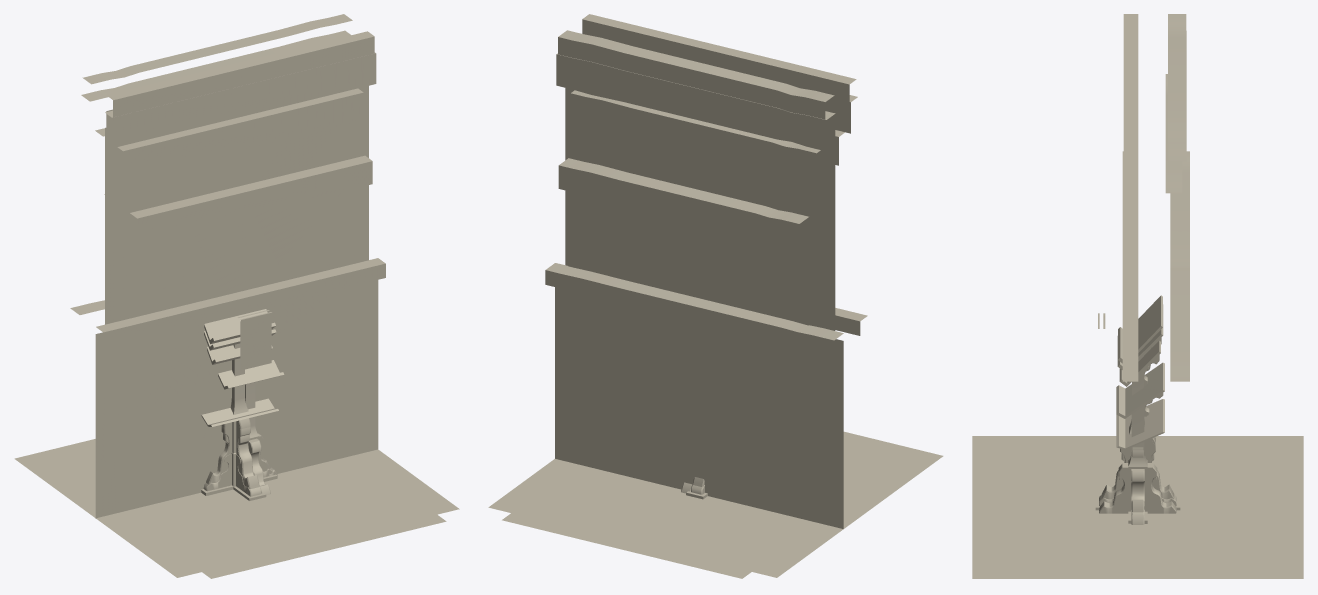
Rendered from palace.glb.
3 renders of one model, left to right at view 1: azimuth 30°, elevation 25°; view 2: azimuth 150°, elevation 25°; view 3: azimuth 270°, elevation 25°, orthographic. The views are drawn at different scales.
Parts seen in each view (by area): view 1: architecture.palace.beam:condition-damaged, architecture.palace.beam:condition-overgrown, architecture.palace.beam:visual-base, architecture.palace.floor-section:condition-overgrown, architecture.palace.beam:condition-burned, architecture.palace.beam:condition-weathered, architecture.palace.floor-section:condition-damaged, environment.palace.anchor:condition-overgrown, environment.palace.anchor:condition-damaged, environment.palace.anchor:visual-base, architecture.palace.doorway:state-lock, environment.palace.anchor:condition-weathered (+1 smaller); view 2: architecture.palace.beam:condition-damaged, architecture.palace.floor-section:condition-overgrown, architecture.palace.beam:condition-weathered, architecture.palace.beam:condition-overgrown, architecture.palace.beam:visual-base, architecture.palace.beam:condition-burned, architecture.palace.floor-section:condition-damaged; view 3: architecture.palace.floor-section:condition-overgrown, architecture.palace.beam:visual-base, environment.palace.anchor:condition-damaged, architecture.palace.beam:condition-overgrown, architecture.palace.beam:condition-damaged, environment.palace.anchor:condition-overgrown, environment.palace.anchor:visual-base, environment.palace.anchor:condition-weathered, architecture.palace.beam:condition-burned, architecture.palace.floor-section:condition-damaged, architecture.palace.beam:condition-weathered, environment.palace.anchor:condition-burned.
Boxes of the visible parts, x1,y1,x2,y2 form: architecture.palace.beam:condition-damaged: (104, 155, 372, 509); architecture.palace.beam:condition-overgrown: (70, 258, 385, 518); architecture.palace.beam:visual-base: (82, 14, 374, 515); architecture.palace.floor-section:condition-overgrown: (14, 439, 459, 577); architecture.palace.beam:condition-burned: (95, 88, 363, 512); architecture.palace.beam:condition-weathered: (81, 30, 376, 515); architecture.palace.floor-section:condition-damaged: (202, 514, 446, 578); environment.palace.anchor:condition-overgrown: (201, 398, 278, 500); environment.palace.anchor:condition-damaged: (218, 360, 284, 495); environment.palace.anchor:visual-base: (204, 309, 275, 487); architecture.palace.doorway:state-lock: (237, 310, 272, 370); environment.palace.anchor:condition-weathered: (204, 329, 276, 488); architecture.palace.beam:condition-damaged: (558, 158, 808, 520); architecture.palace.floor-section:condition-overgrown: (488, 431, 943, 577); architecture.palace.beam:condition-weathered: (556, 53, 857, 330); architecture.palace.beam:condition-overgrown: (545, 263, 867, 528); architecture.palace.beam:visual-base: (558, 14, 856, 128); architecture.palace.beam:condition-burned: (570, 90, 844, 181); architecture.palace.floor-section:condition-damaged: (502, 513, 751, 578); architecture.palace.floor-section:condition-overgrown: (972, 436, 1303, 575); architecture.palace.beam:visual-base: (1123, 14, 1186, 143); environment.palace.anchor:condition-damaged: (1099, 362, 1176, 524); architecture.palace.beam:condition-overgrown: (1122, 268, 1189, 381); architecture.palace.beam:condition-damaged: (1122, 151, 1189, 267); environment.palace.anchor:condition-overgrown: (1095, 399, 1180, 523); environment.palace.anchor:visual-base: (1102, 295, 1173, 510); environment.palace.anchor:condition-weathered: (1101, 304, 1174, 512); architecture.palace.beam:condition-burned: (1125, 74, 1182, 193); architecture.palace.floor-section:condition-damaged: (972, 576, 1303, 578); architecture.palace.beam:condition-weathered: (1123, 31, 1186, 161); environment.palace.anchor:condition-burned: (1119, 340, 1160, 462).
Size of the model in its own units: 2.16 by 3.16 by 2.16.
